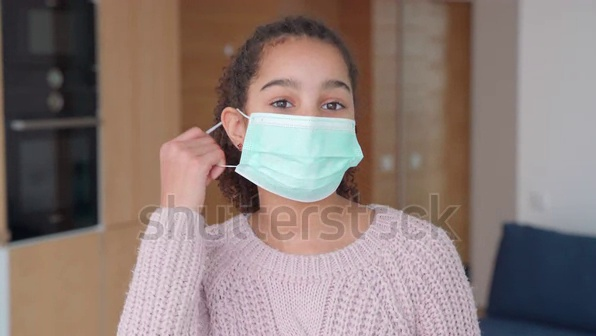Mask: (213, 107, 371, 205)
